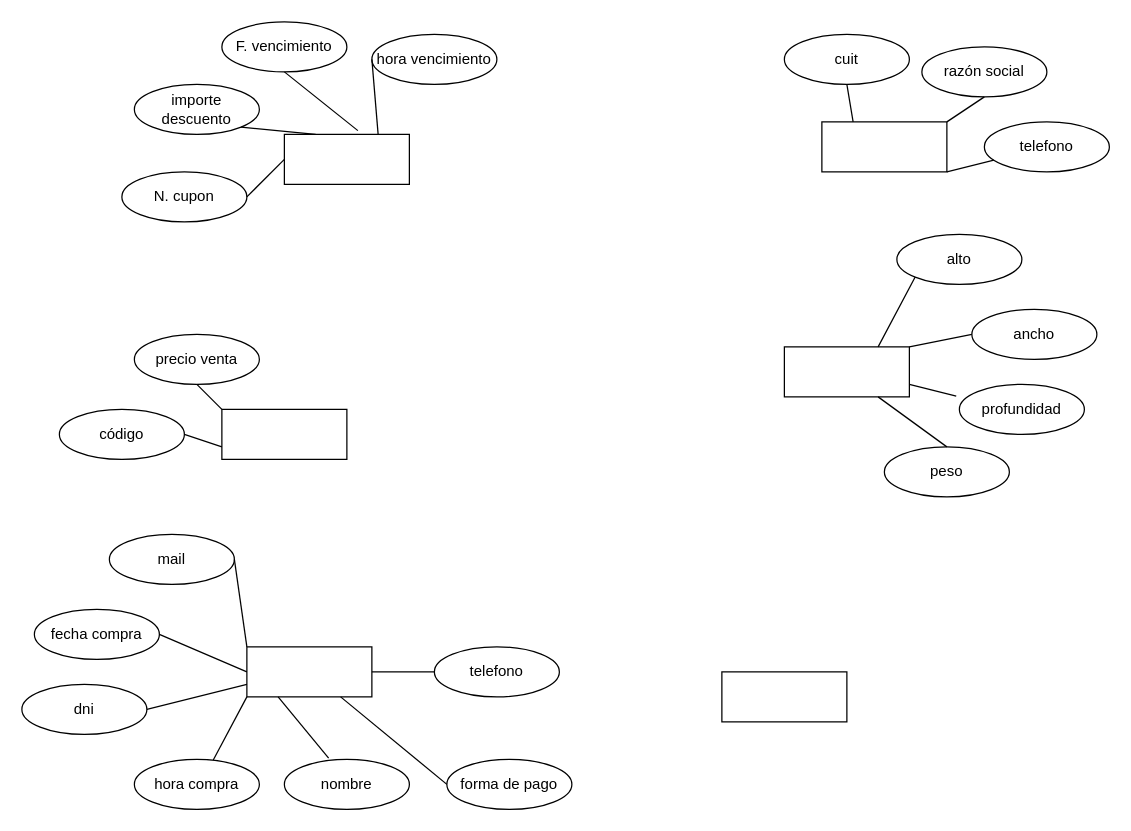
This 1131x831 diagram has some shape labels left out. The shapes that lost their labels are listed below. From the top down, each one's box as (x1, y1, x2, y2) in pixels, then its label:
(283, 133, 409, 184): cupon
(821, 121, 947, 172): Proveedores
(783, 346, 909, 397): dimensiones producto
(221, 408, 347, 459): Producto
(246, 646, 372, 697): clientes
(721, 671, 847, 722): super cupon
